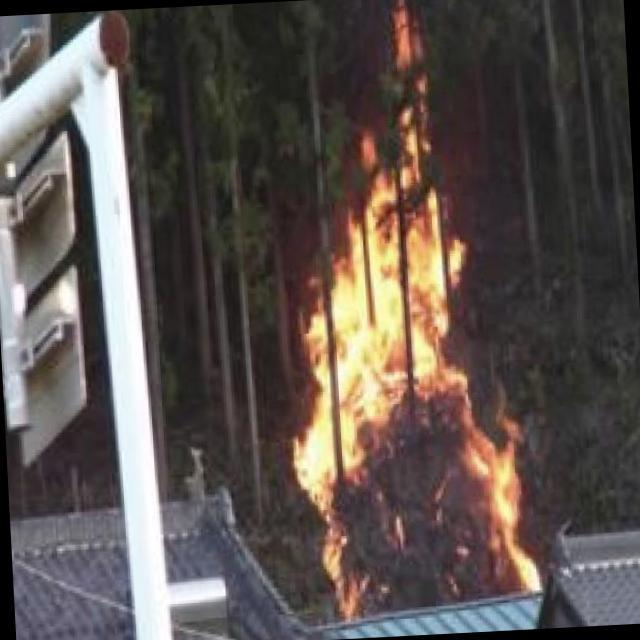Fire: (283, 137, 543, 612)
